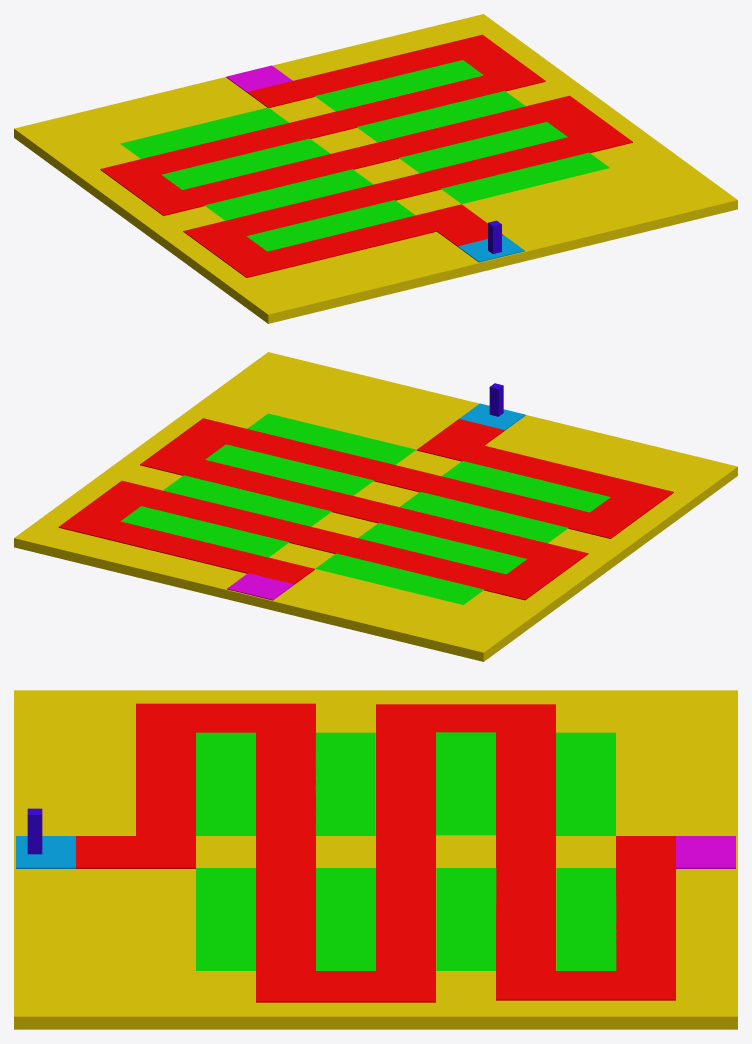
Rendered from mapa blockagem.fbx.
3 views of the same model, one above another, from view 1: azimuth 30°, elevation 25°; view 2: azimuth 150°, elevation 25°; view 3: azimuth 270°, elevation 25° (orthographic). The views are drawn at different scales.
Parts seen in each view (by area): view 1: Chao Geral, Caminho, Area dos defensores, Start, Final; view 2: Chao Geral, Caminho, Area dos defensores, Start, Final; view 3: Chao Geral, Caminho, Area dos defensores, Start, Final, Ref Personagem.
Boxes of the visible parts, x1,y1,x2,y2 form: Chao Geral: (14, 14, 737, 323); Caminho: (100, 34, 632, 277); Area dos defensores: (120, 60, 609, 251); Start: (226, 65, 292, 92); Final: (458, 235, 524, 262); Chao Geral: (14, 352, 737, 661); Caminho: (58, 418, 673, 600); Area dos defensores: (121, 413, 610, 604); Start: (227, 573, 293, 600); Final: (459, 403, 525, 430); Chao Geral: (14, 690, 737, 1029); Caminho: (76, 703, 675, 1002); Area dos defensores: (196, 732, 616, 970); Start: (676, 836, 735, 868); Final: (16, 836, 75, 868); Ref Personagem: (27, 808, 42, 854).
Bounding box in the file's own units: 10627 × 821 × 9964.
